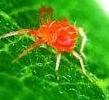tiny_pests: (0, 0, 90, 77)
